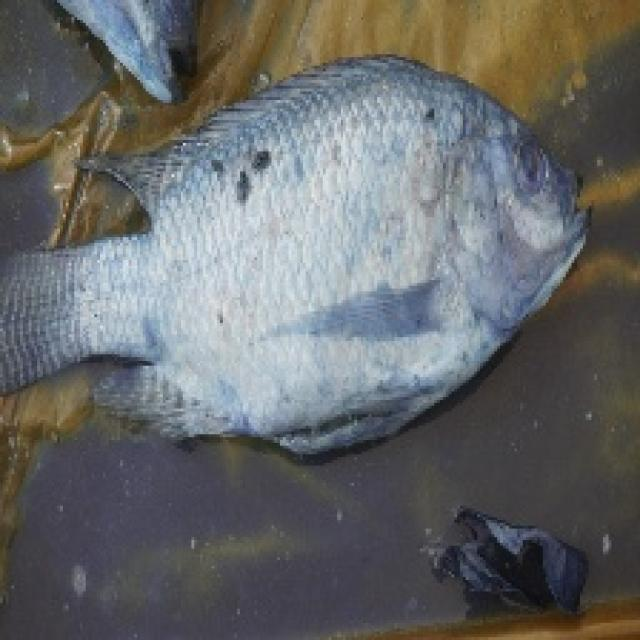Non-Fresh: (58, 88, 616, 434)
